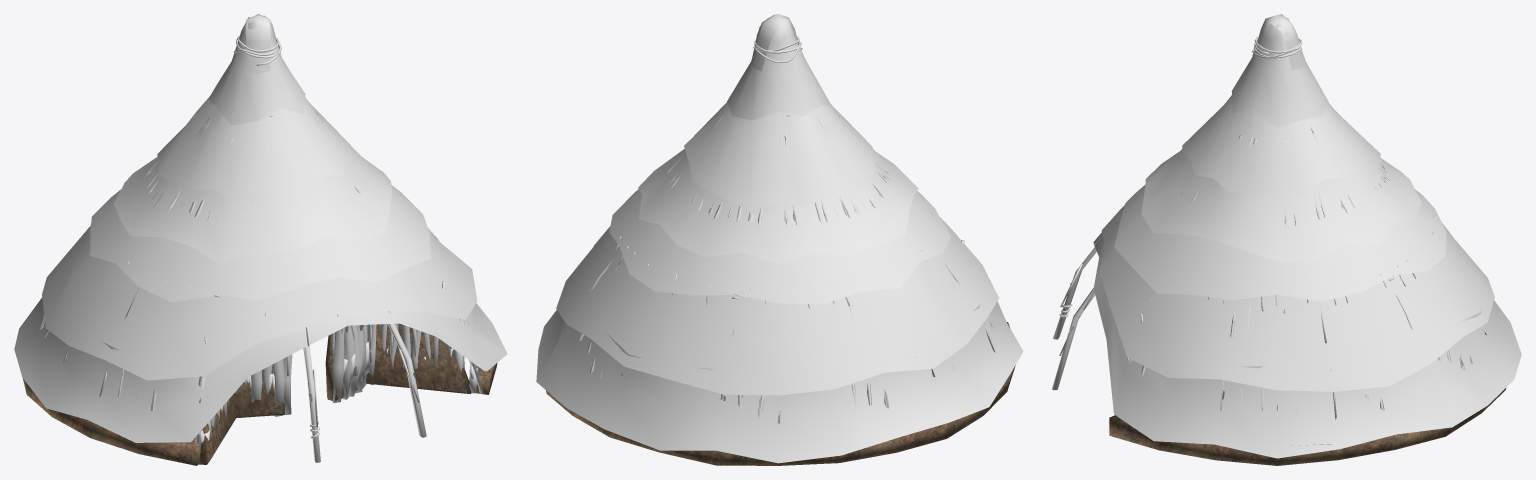
Rendered from lowpoly_african_hut_006.fbx.
3 renders of one model, left to right at view 1: azimuth 30°, elevation 25°; view 2: azimuth 150°, elevation 25°; view 3: azimuth 270°, elevation 25°, orthographic.
Parts seen in each view (by area): view 1: lowpoly_african_hut_006; view 2: lowpoly_african_hut_006; view 3: lowpoly_african_hut_006.
Boxes of the visible parts, <box> form: lowpoly_african_hut_006: <box>14,14,507,465</box>; lowpoly_african_hut_006: <box>536,14,1023,465</box>; lowpoly_african_hut_006: <box>1052,14,1521,465</box>.
Size of the model in its own units: 425 by 339 by 408.
